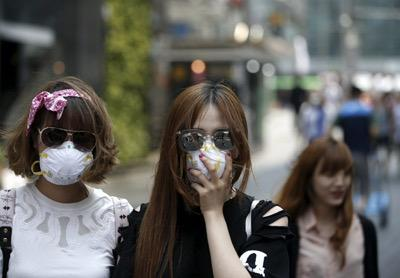with_mask: (38, 122, 95, 187), (184, 124, 236, 185)
without_mask: (313, 167, 350, 207)
